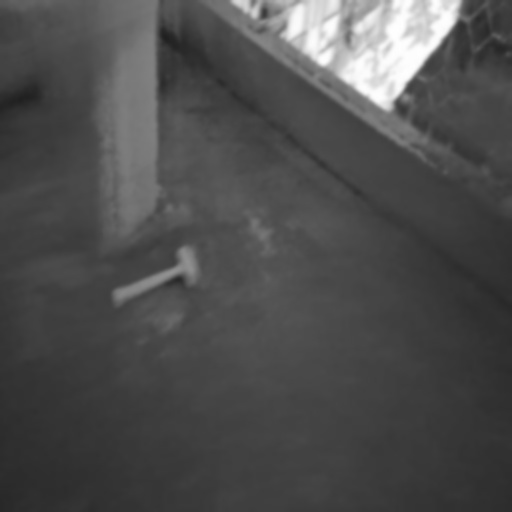mallet: (112, 244, 199, 302)
